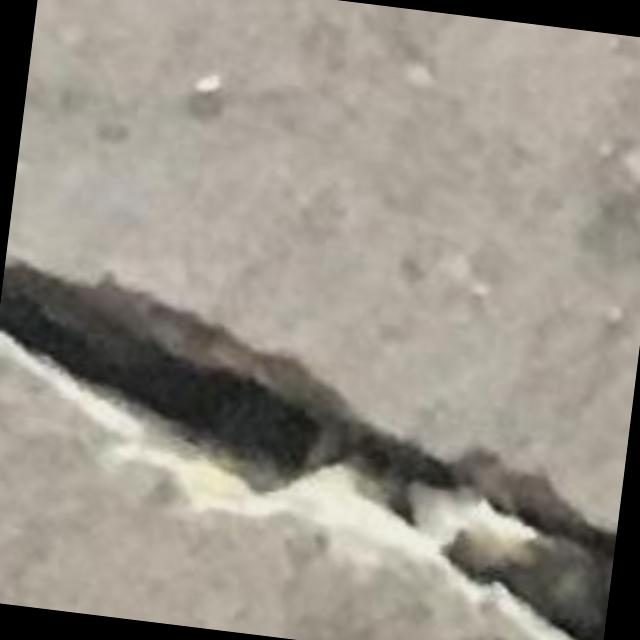crack: (0, 264, 615, 639)
